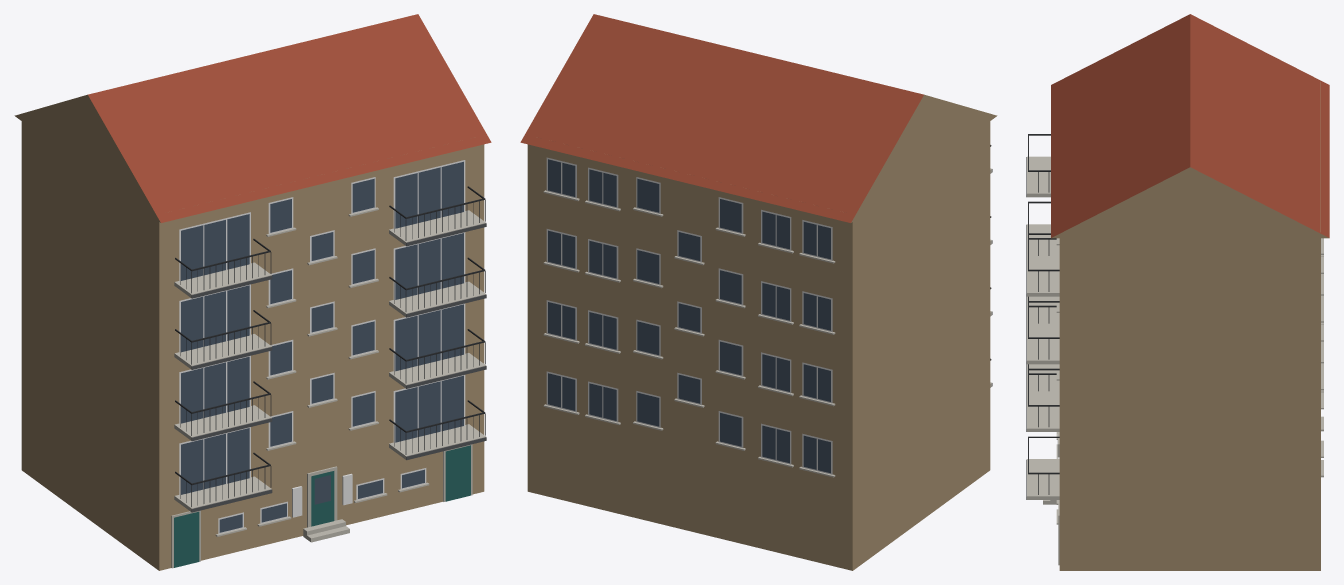
Rendered from nw-portiek-wide-core-slotermeerlaan__brick-buff__5__gable__long__solid.glb.
3 renders of one model, left to right at view 1: azimuth 30°, elevation 25°; view 2: azimuth 150°, elevation 25°; view 3: azimuth 270°, elevation 25°, orthographic. The views are drawn at different scales.
Visible parts, largest first — view 1: nw-portiek-wide-core-slotermeerlaan__brick-buff__5__gable__l; view 2: nw-portiek-wide-core-slotermeerlaan__brick-buff__5__gable__l; view 3: nw-portiek-wide-core-slotermeerlaan__brick-buff__5__gable__l.
Boxes of the visible parts, box(x1,y1,x2,y2) form: nw-portiek-wide-core-slotermeerlaan__brick-buff__5__gable__l: box(14, 14, 491, 570); nw-portiek-wide-core-slotermeerlaan__brick-buff__5__gable__l: box(520, 14, 997, 570); nw-portiek-wide-core-slotermeerlaan__brick-buff__5__gable__l: box(1026, 14, 1329, 570).
Size of the model in its own units: 14.43 by 17.79 by 12.07.
